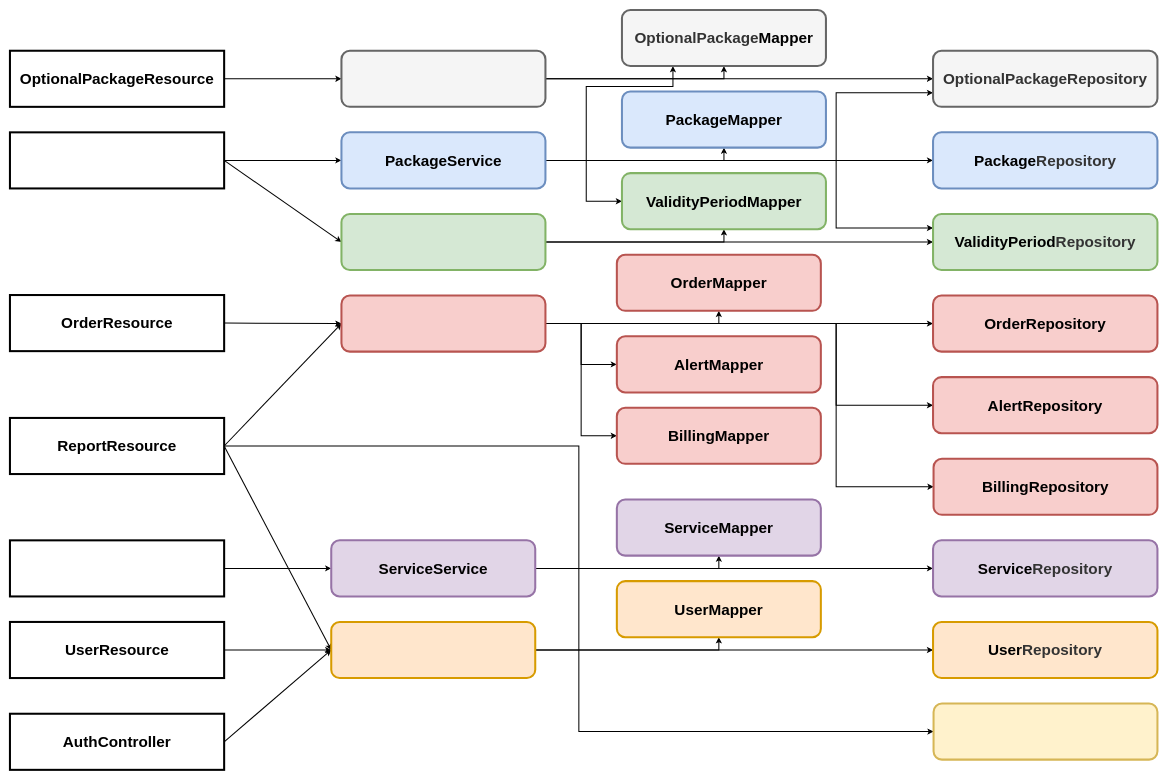
Some shapes in this 1167 by 779 pixel diagram are drawn without their labels. The centre of each missing label's shape, as x and y in pixels:
"OptionalPackageService" goes at pixel 443 78.
"Order Service" goes at pixel 443 323.
"PackageResource" goes at pixel 117 160.
"ReportRepositor y" goes at pixel 1045 731.
"ServiceResource" goes at pixel 117 568.
"UserService" goes at pixel 433 650.
"ValidityPeriodService" goes at pixel 443 242.
